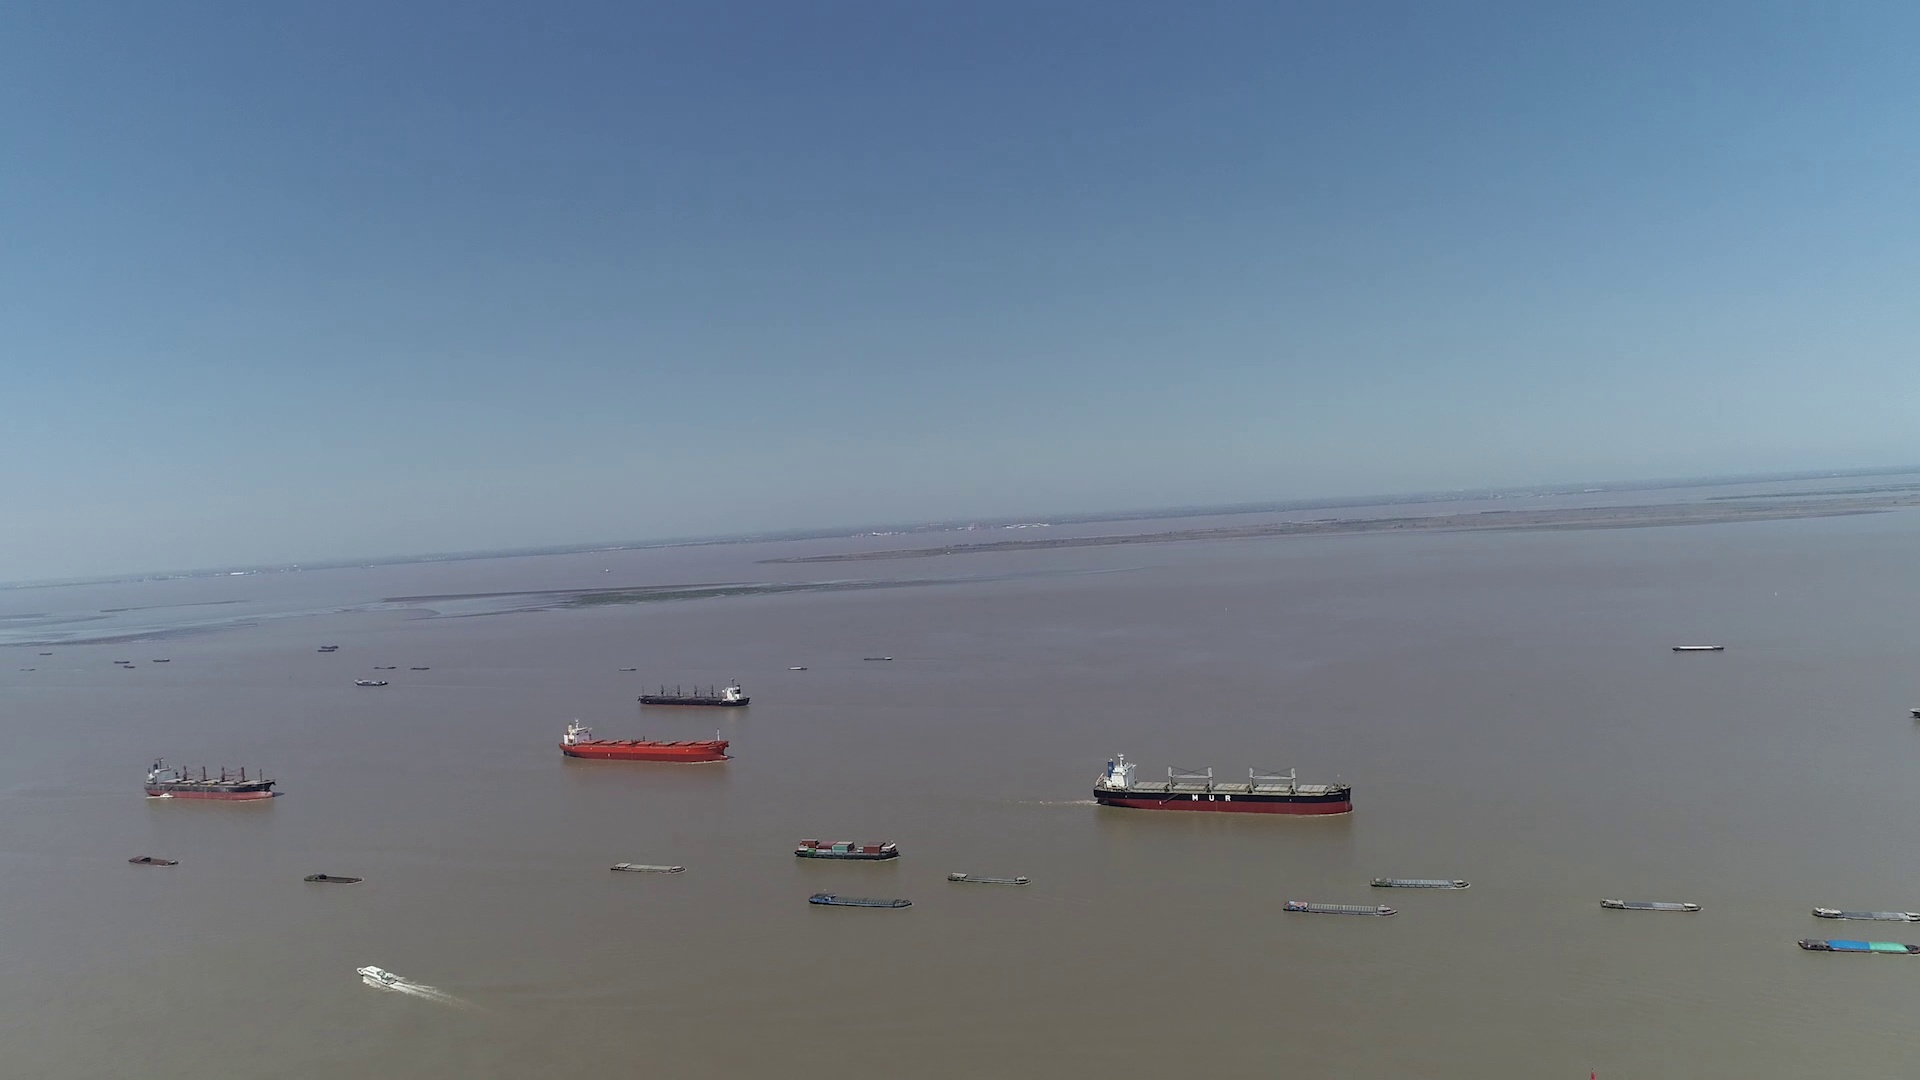ship: (1095, 752, 1353, 818), (556, 719, 727, 764), (144, 757, 278, 800), (638, 680, 752, 708), (793, 837, 898, 861), (1282, 899, 1400, 918), (1789, 938, 1917, 953), (357, 964, 426, 990), (1815, 905, 1919, 922), (808, 891, 913, 909), (1602, 895, 1700, 913), (1371, 876, 1466, 891), (945, 869, 1029, 886), (609, 860, 683, 874), (303, 873, 367, 885), (127, 855, 174, 866), (1672, 644, 1724, 651), (357, 676, 389, 686)
